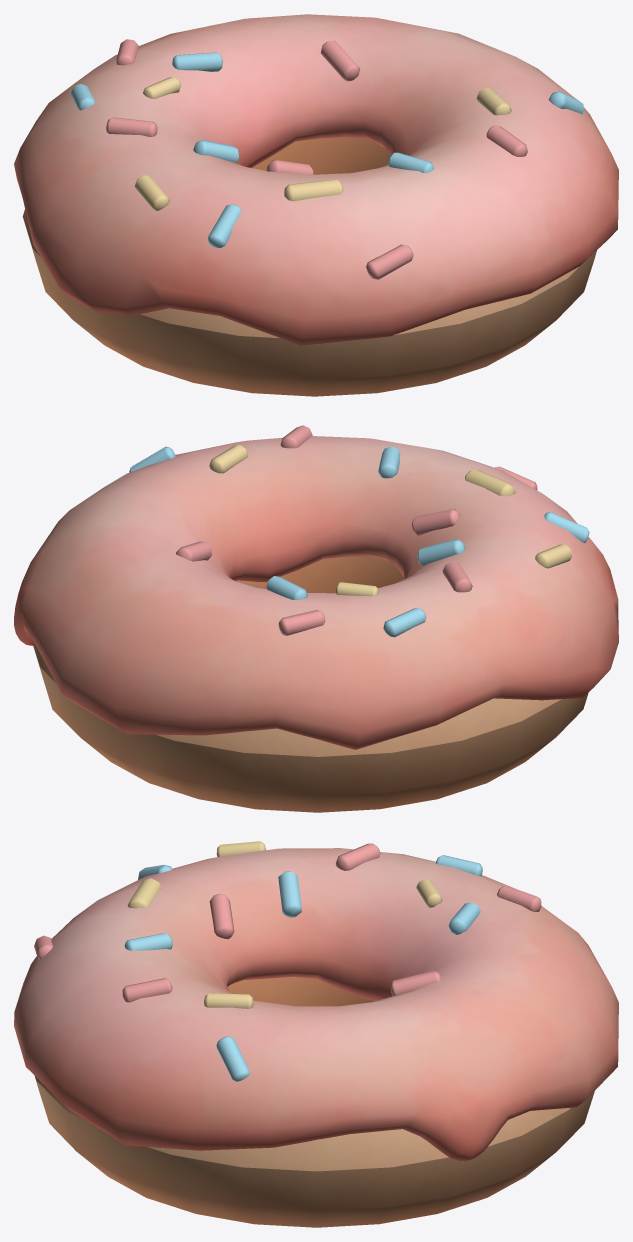
Rendered from Donut_1.fbx.
3 renders of one model, top to bottom at view 1: azimuth 30°, elevation 25°; view 2: azimuth 150°, elevation 25°; view 3: azimuth 270°, elevation 25°, orthographic.
Parts seen in each view (by area): view 1: Donut_1; view 2: Donut_1; view 3: Donut_1.
Boxes of the visible parts, bbox=[...] form: Donut_1: bbox=[14, 14, 618, 396]; Donut_1: bbox=[14, 425, 618, 812]; Donut_1: bbox=[14, 841, 618, 1227].
Bounding box in the file's own units: 0.3761 × 0.1441 × 0.3773.
Materials: 1 (1 with a texture image).
